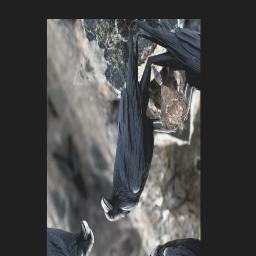Crow: (54, 21, 191, 234)
